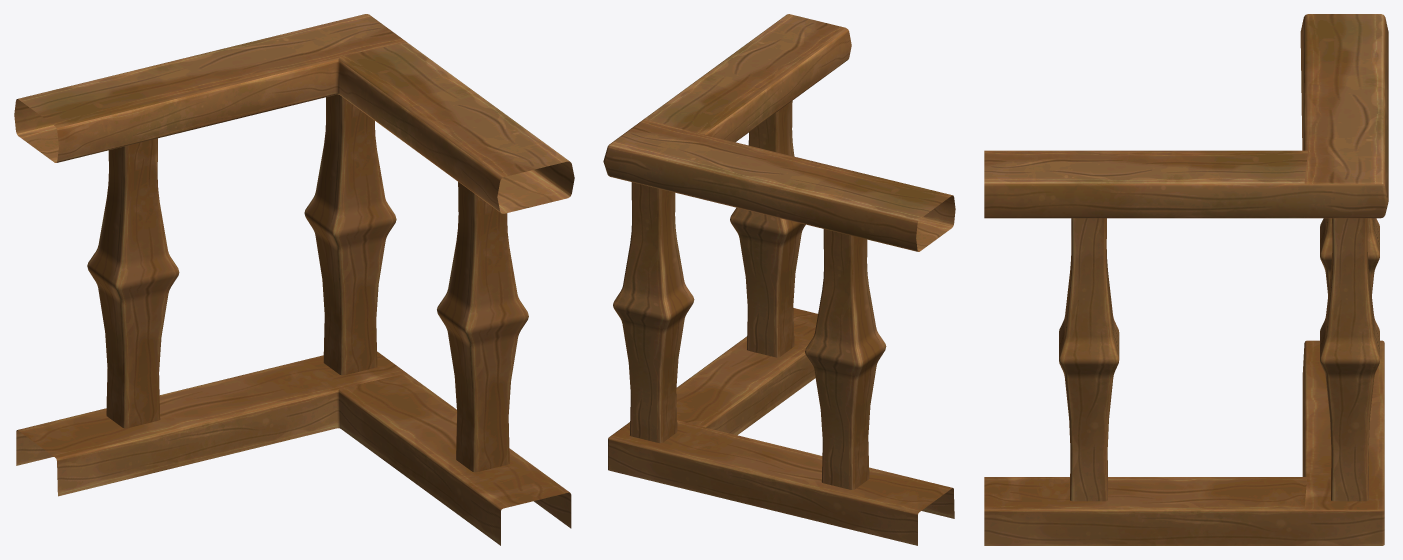
The model's file is SM_Rail_Corner.gltf.
3 views of the same model, side by side, from view 1: azimuth 30°, elevation 25°; view 2: azimuth 150°, elevation 25°; view 3: azimuth 270°, elevation 25° (orthographic). The views are drawn at different scales.
Visible parts, largest first — view 1: SM_Rail_Corner_100x100; view 2: SM_Rail_Corner_100x100; view 3: SM_Rail_Corner_100x100.
Boxes of the visible parts, x1,y1,x2,y2 form: SM_Rail_Corner_100x100: (14, 14, 574, 545); SM_Rail_Corner_100x100: (603, 14, 955, 545); SM_Rail_Corner_100x100: (984, 14, 1388, 545).
Size of the model in its own units: 1.01 by 1 by 1.01.
1 material, 1 textured.
